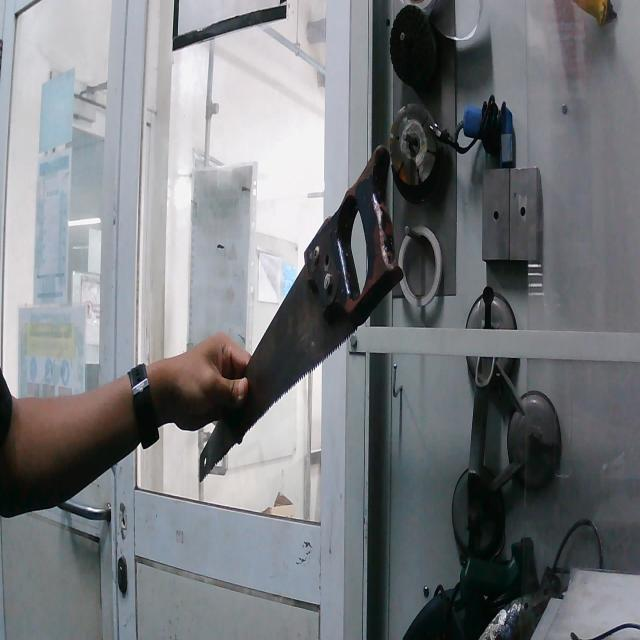gergaji_kayu: (189, 113, 422, 495)
